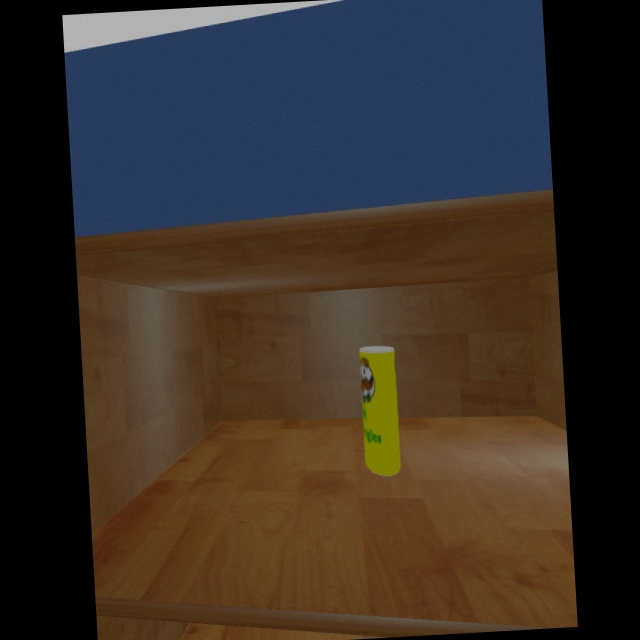chipsdose_gelb: (360, 345, 401, 477)
